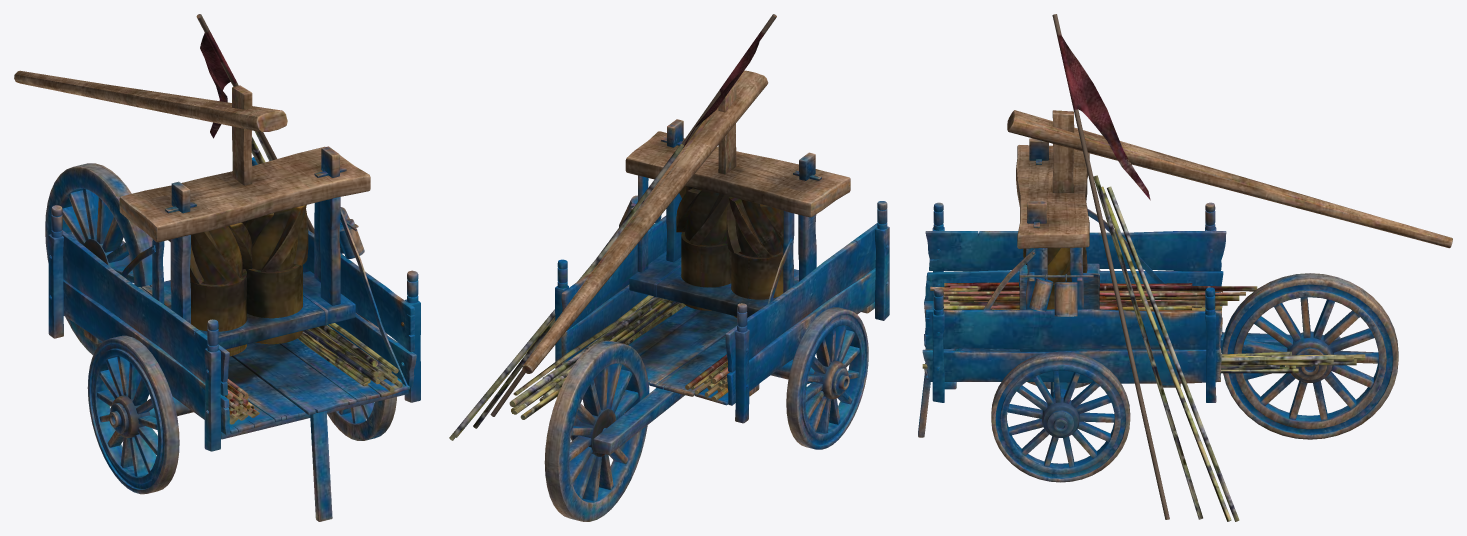
Rendered from xi_oam_sugarcart.gltf.
The picture shows the model from 3 angles, left to right: view 1: azimuth 30°, elevation 25°; view 2: azimuth 150°, elevation 25°; view 3: azimuth 270°, elevation 25°; orthographic projection. The views are drawn at different scales.
Visible parts, largest first — view 1: xi_oam_sugarcart; view 2: xi_oam_sugarcart; view 3: xi_oam_sugarcart.
Boxes of the visible parts, left/top/right/bottom form: xi_oam_sugarcart: left=14, top=14, right=420, bottom=521; xi_oam_sugarcart: left=449, top=14, right=889, bottom=521; xi_oam_sugarcart: left=918, top=14, right=1452, bottom=521.
Size of the model in its own units: 1.88 by 2.44 by 2.94.
1 material, 1 textured.
